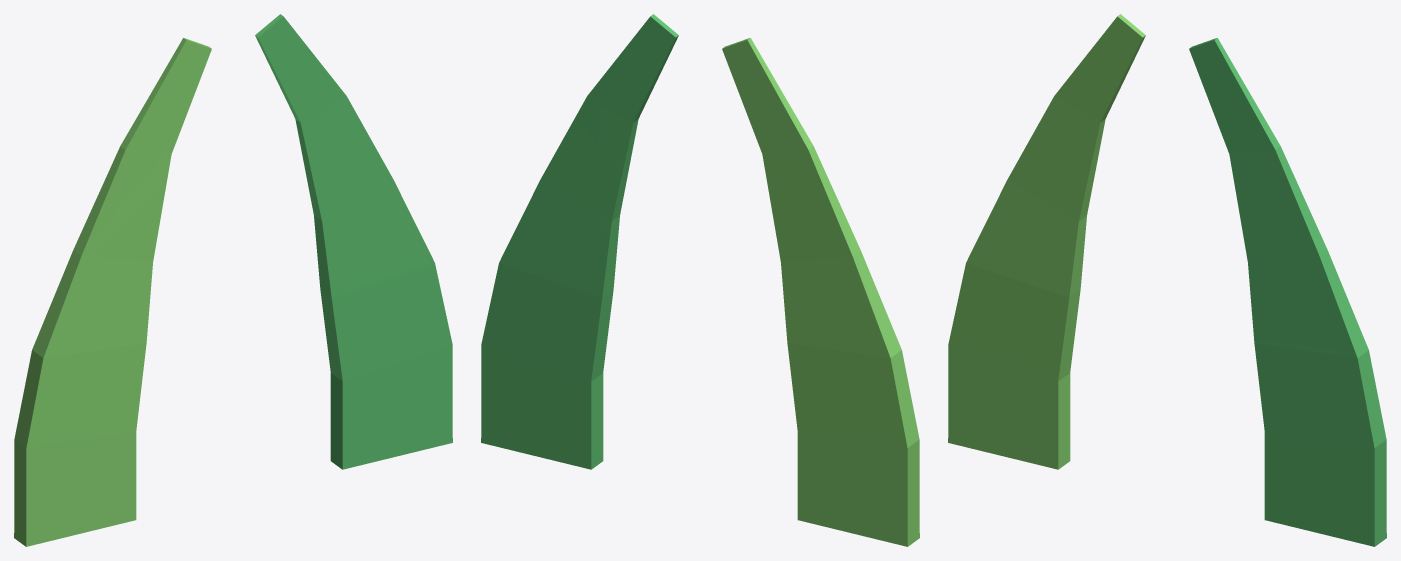
File: Grass_3.fbx
The picture shows the model from 3 angles, left to right: view 1: azimuth 30°, elevation 25°; view 2: azimuth 150°, elevation 25°; view 3: azimuth 330°, elevation 25°; orthographic projection.
Visible parts, largest first — view 1: Grass_3; view 2: Grass_3; view 3: Grass_3.
Boxes of the visible parts, <box> form: Grass_3: <box>14,14,452,546</box>; Grass_3: <box>481,14,919,546</box>; Grass_3: <box>948,14,1386,546</box>.
Size of the model in its own units: 24.15 by 25.07 by 1.18.
